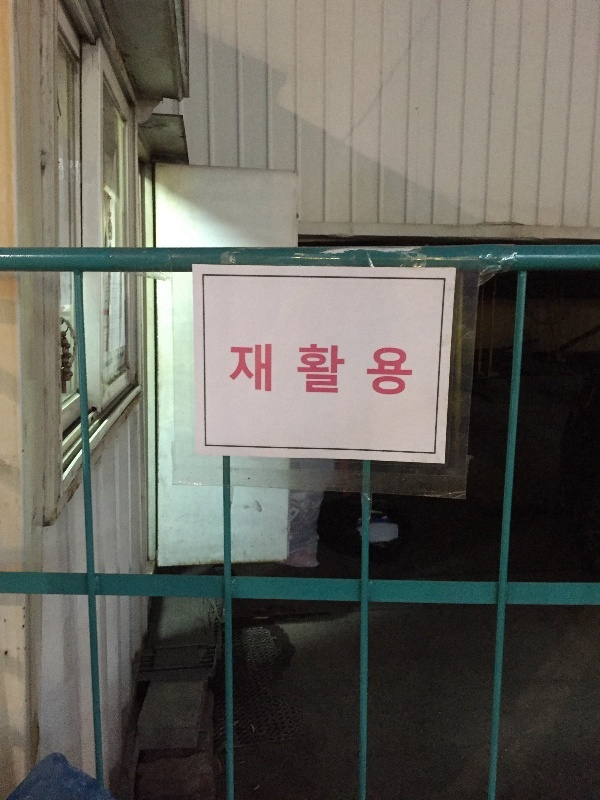text: (241, 341, 256, 397), (257, 341, 272, 397), (273, 341, 288, 397), (289, 341, 304, 397), (305, 341, 320, 397), (321, 341, 336, 397), (337, 341, 352, 397), (353, 341, 368, 397), (369, 341, 384, 397), (385, 341, 400, 397), (401, 341, 414, 397), (230, 341, 240, 397)
